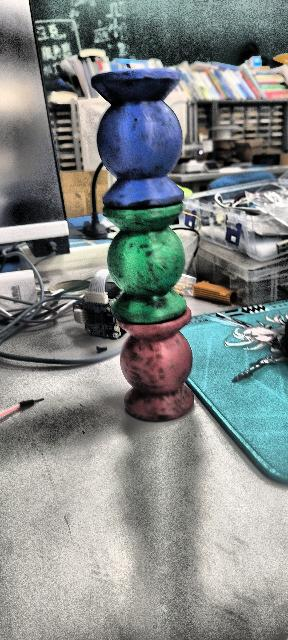blue: (91, 68, 185, 208)
green: (99, 198, 198, 330)
red: (106, 318, 202, 426)
